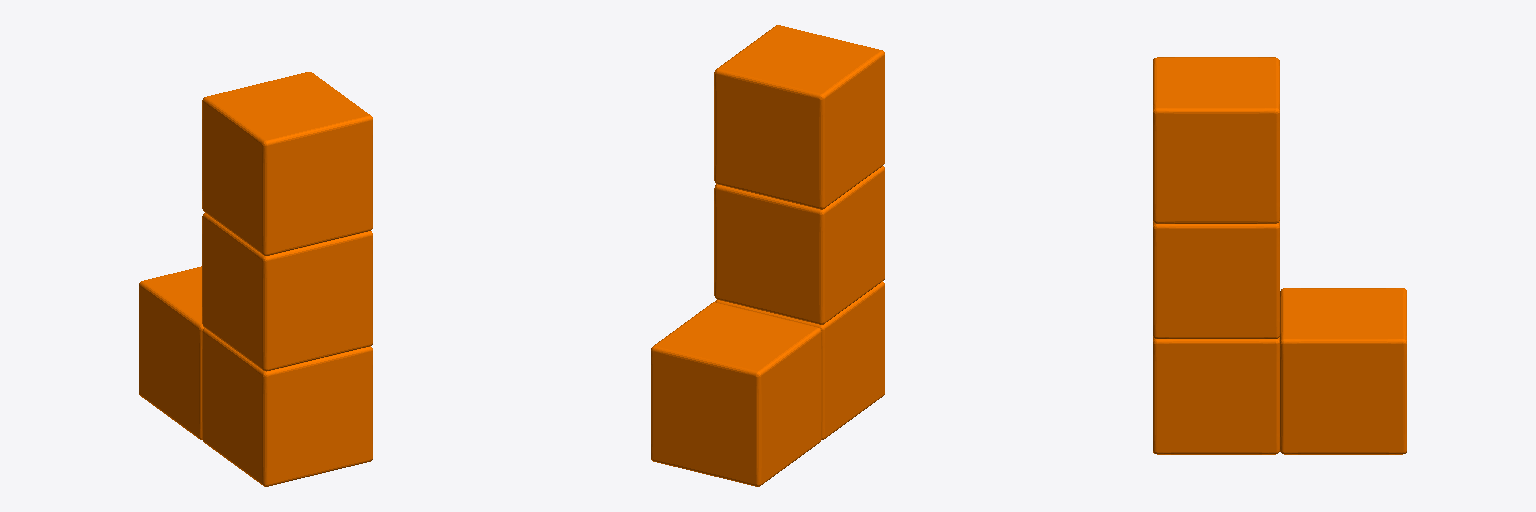
File: Tetris-L.obj
The picture shows the model from 3 angles: view 1: azimuth 30°, elevation 25°; view 2: azimuth 150°, elevation 25°; view 3: azimuth 270°, elevation 25°; orthographic projection.
Size of the model in its own units: 15 by 45 by 30.